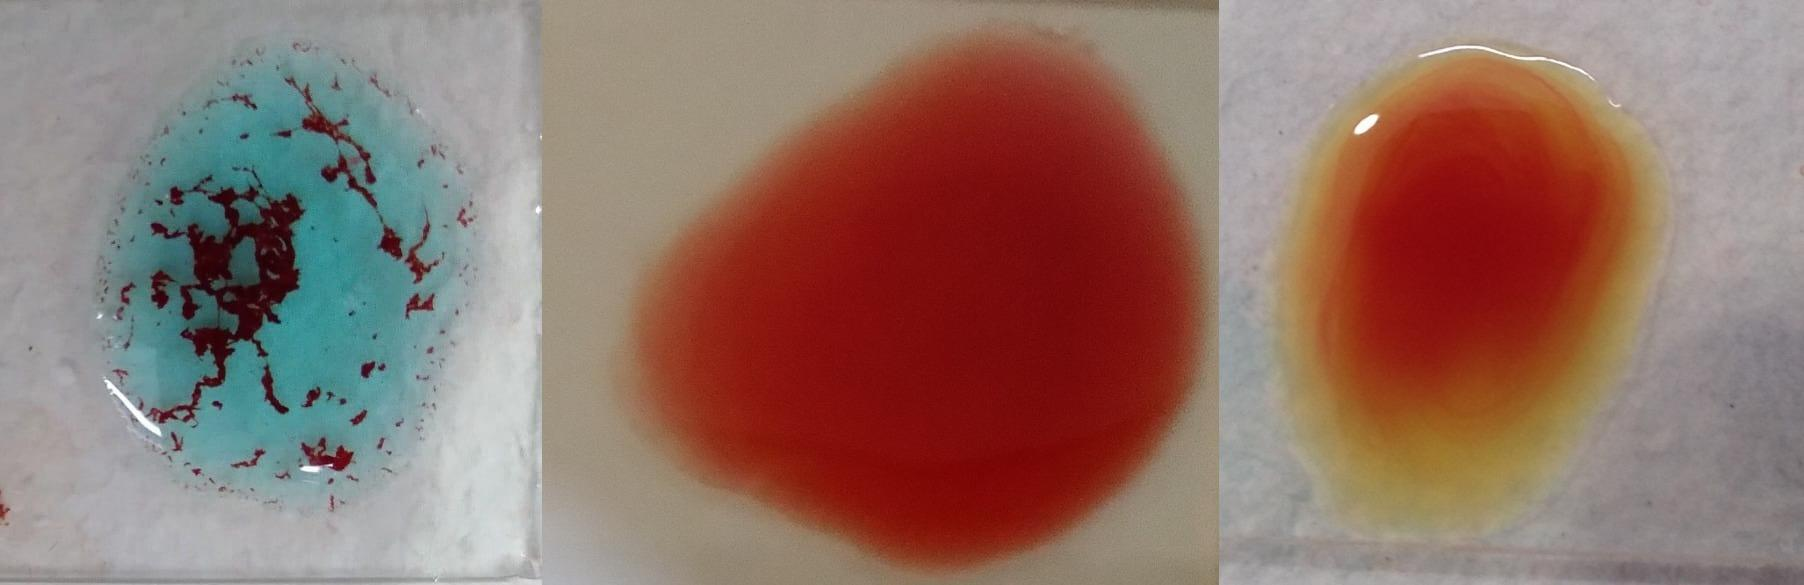A: (102, 41, 482, 516)
